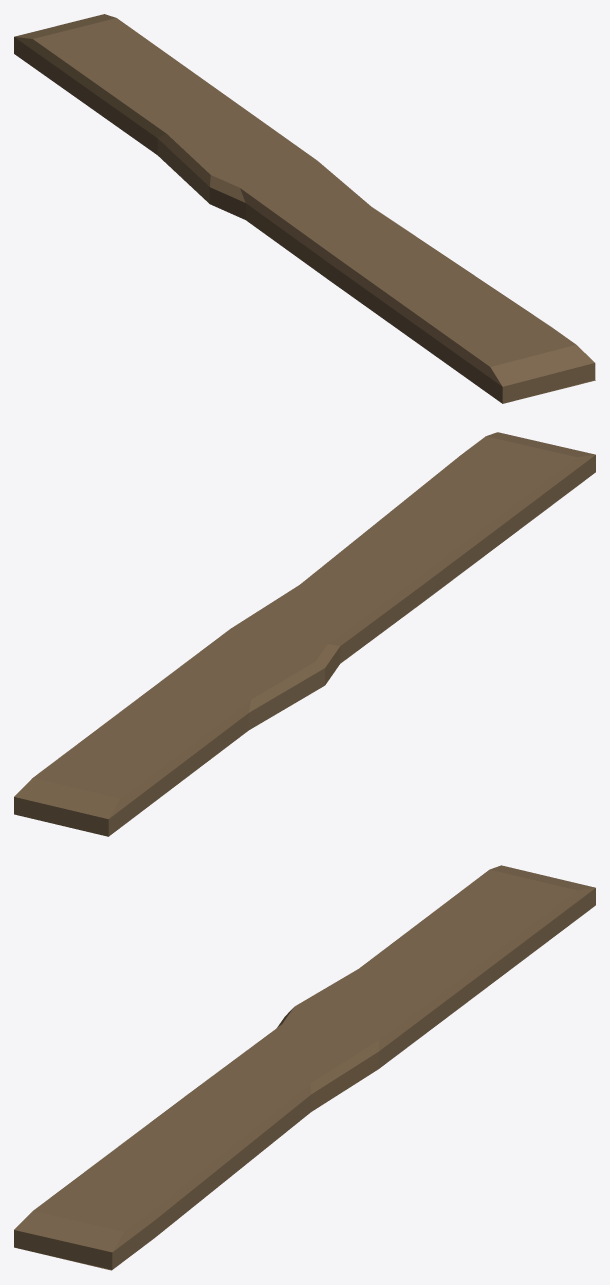
The model's file is PierPlank2.fbx.
The picture shows the model from 3 angles, top to bottom: view 1: azimuth 30°, elevation 25°; view 2: azimuth 150°, elevation 25°; view 3: azimuth 330°, elevation 25°; orthographic projection. The views are drawn at different scales.
Parts seen in each view (by area): view 1: Plane.073; view 2: Plane.073; view 3: Plane.073.
Boxes of the visible parts, bbox=[...] form: Plane.073: bbox=[14, 14, 595, 403]; Plane.073: bbox=[14, 432, 595, 836]; Plane.073: bbox=[14, 865, 595, 1270].
Size of the model in its own units: 105 by 23.03 by 804.
